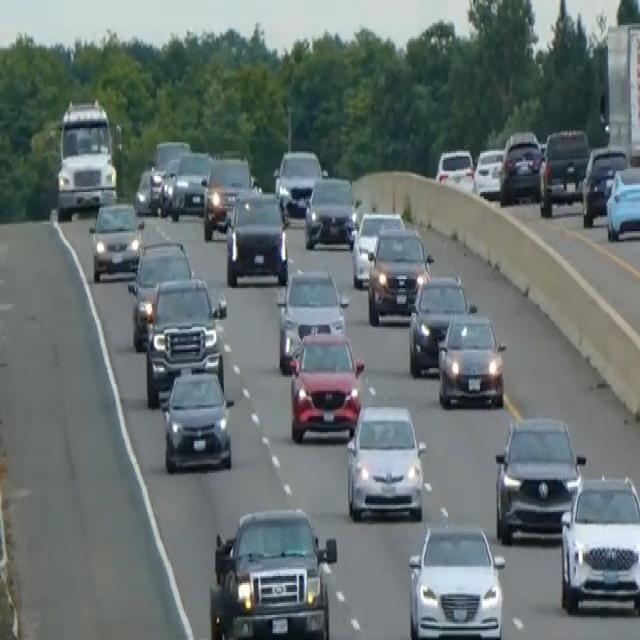car: (493, 412, 585, 544), (407, 521, 505, 638), (559, 473, 639, 615), (144, 274, 227, 405), (345, 402, 426, 521), (288, 325, 364, 443), (159, 364, 234, 473), (275, 266, 348, 372), (126, 238, 193, 348), (436, 307, 506, 409), (407, 272, 474, 377), (366, 226, 433, 325), (224, 188, 288, 286), (88, 197, 143, 281), (201, 153, 254, 240), (539, 126, 589, 212), (351, 208, 404, 286), (303, 174, 358, 249), (581, 144, 628, 226), (274, 148, 322, 218), (499, 130, 543, 204), (170, 150, 212, 220), (605, 162, 639, 242), (434, 146, 474, 190), (472, 146, 504, 199), (134, 164, 167, 215), (153, 137, 191, 176)
jeep: (208, 503, 338, 638)
lorry: (54, 96, 119, 219)
